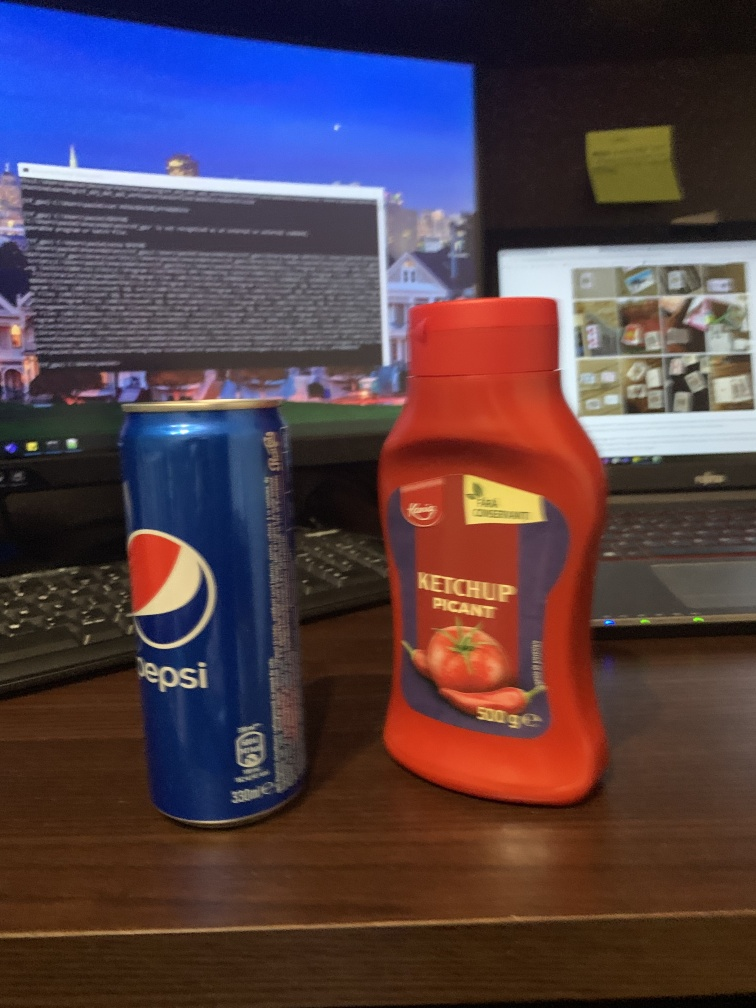ketchup: (362, 297, 619, 805)
pepsi: (115, 395, 319, 831)
